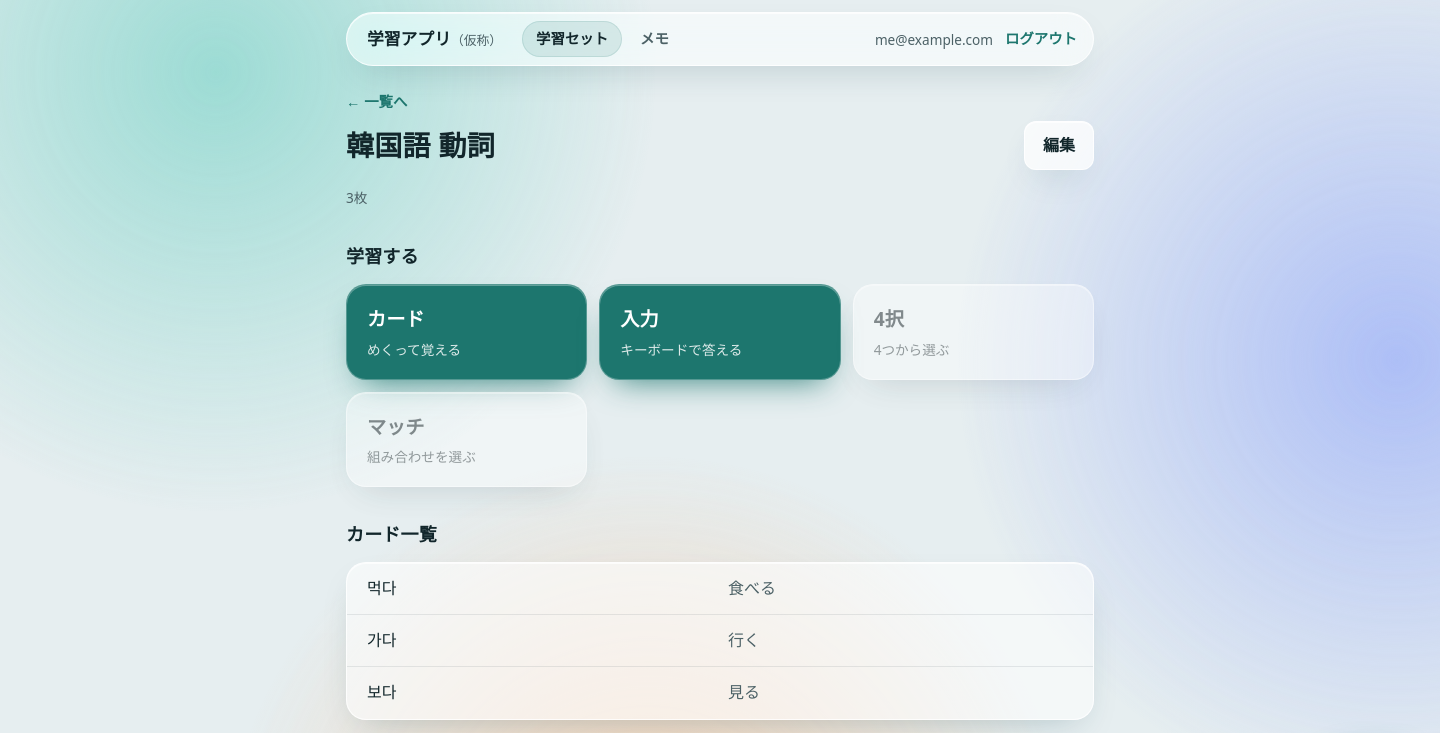
Test case: 4枚未満のセット › タップ（クリック）やキーボードで選んだときも吹き出しが出る。読み上げにも理由が伝わる
This screenshot has width=1440, height=733.
Click the link "4択 4つから選ぶ" at (973, 332), box left=853, top=284, right=1094, bottom=380
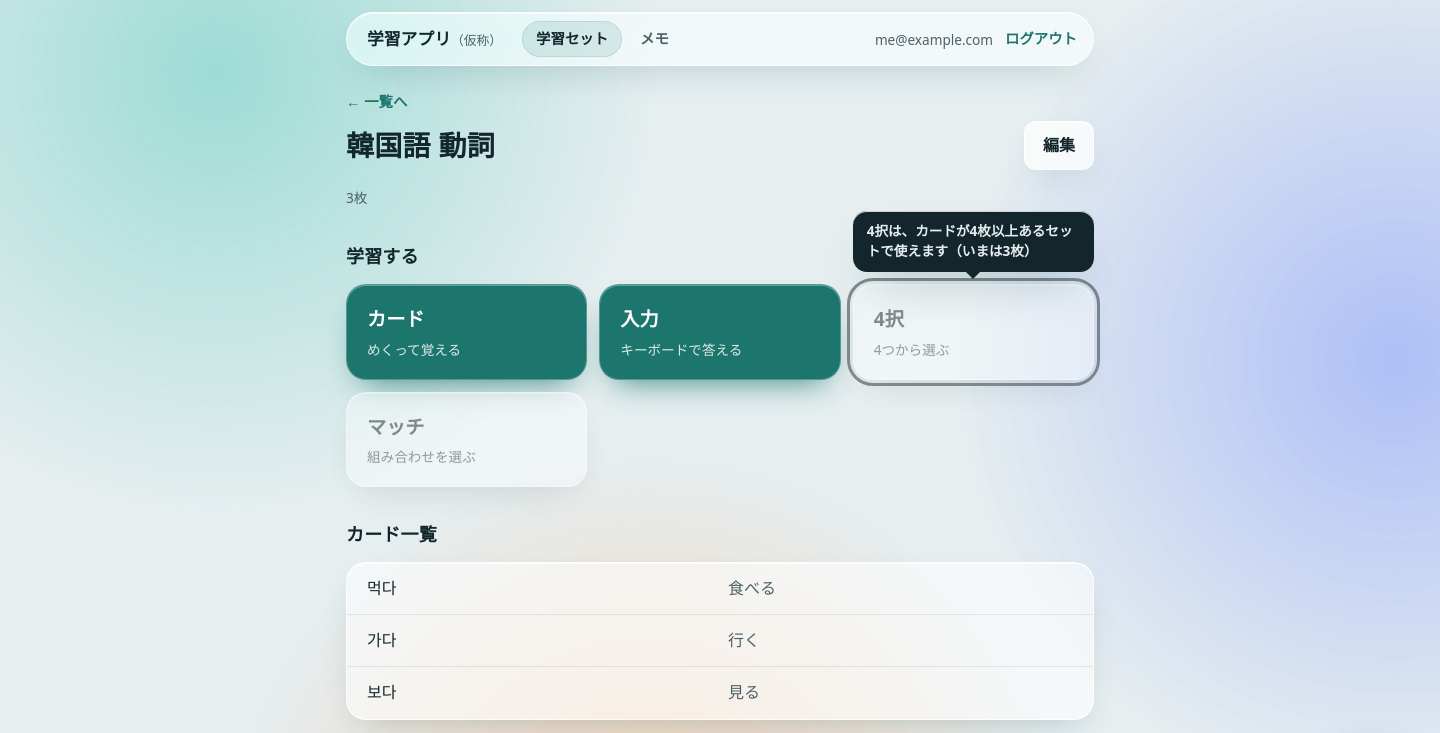
Now the tooltip "4択は、カードが4枚以上あるセットで使えます（いまは3枚）" is shown, box left=853, top=211, right=1094, bottom=272
